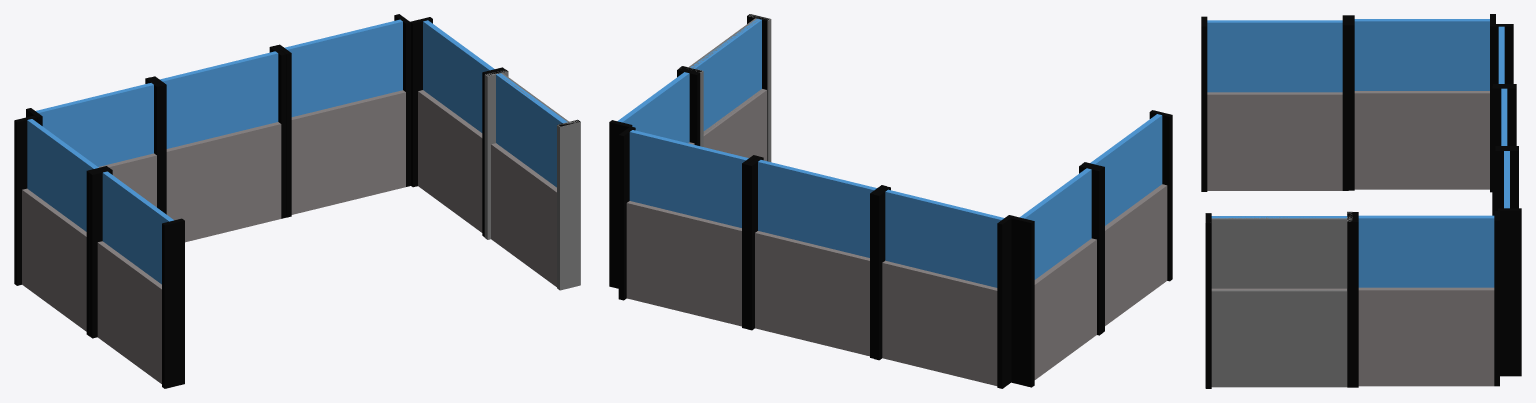
The model's file is Cubicle prefab.fbx.
3 renders of one model, left to right at view 1: azimuth 30°, elevation 25°; view 2: azimuth 150°, elevation 25°; view 3: azimuth 270°, elevation 25°, orthographic.
Visible parts, largest first — view 1: Cube_5, Cube_6, Cube__1__6, Cube__1__5, Cube_1, Cube__1__7, Cube_2, Cube, Cube_4, Cube__1__1, Cube__1__4, Cube__1__2 (+15 smaller); view 2: Cube_5, Cube_7, Cube_6, Cube__1__5, Cube__1__7, Cube__1__6, Cube_2, Cube_4, Cube__1__1, Cube__1__4, Cube__1__2, Cube__3__2 (+15 smaller); view 3: Cube, Cube_2, Cube_4, Cube_3, Cube__1_, Cube__1__4, Cube__1__2, Cube__1__3, Cube__3__5, Cube__2__7, Cube__2__6, Cube__2__2 (+12 smaller).
Boxes of the visible parts, x1,y1,x2,y2 form: Cube_5: (291,90,405,214); Cube_6: (166,122,281,242); Cube__1__6: (160,51,278,148); Cube__1__5: (284,19,402,116); Cube_1: (491,143,556,286); Cube__1__7: (36,83,153,166); Cube_2: (22,188,86,331); Cube: (418,90,482,232); Cube_4: (97,241,161,383); Cube__1__1: (496,73,567,187); Cube__1__4: (102,171,173,284); Cube__1__2: (27,119,98,231); Cube_5: (626,201,741,326); Cube_7: (882,260,997,385); Cube_6: (755,231,869,356); Cube__1__5: (629,130,748,227); Cube__1__7: (885,189,1004,287); Cube__1__6: (758,160,876,257); Cube_2: (1034,238,1096,379); Cube_4: (1105,184,1167,325); Cube__1__1: (690,18,761,130); Cube__1__4: (1090,114,1162,225); Cube__1__2: (1019,168,1091,279); Cube__3__2: (1011,216,1034,387); Cube: (1358,287,1494,386); Cube_2: (1354,91,1489,189); Cube_4: (1207,92,1342,190); Cube_3: (1211,290,1346,387); Cube__1_: (1358,215,1494,287); Cube__1__4: (1207,20,1342,92); Cube__1__2: (1354,19,1489,90); Cube__1__3: (1211,216,1346,288); Cube__3__5: (1498,208,1521,376); Cube__2__7: (1490,24,1513,192); Cube__2__6: (1492,86,1515,215); Cube__2__2: (1348,15,1354,190).
Size of the model in its own units: 841 by 310 by 544.
